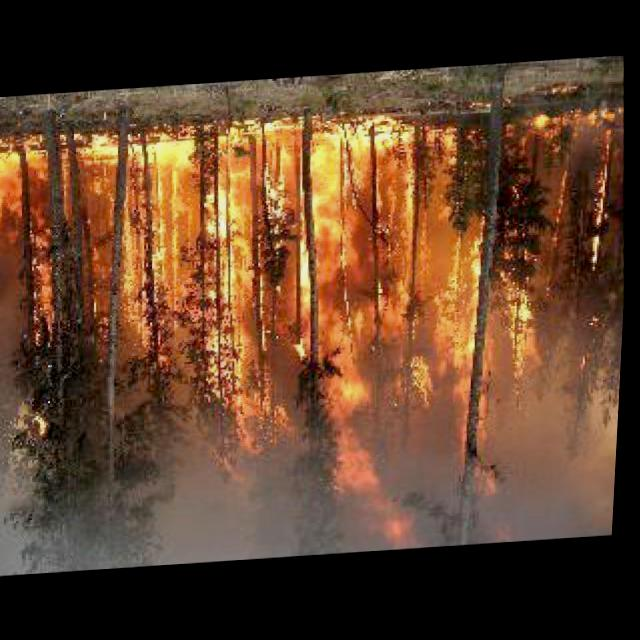Fire: (0, 103, 636, 562)
